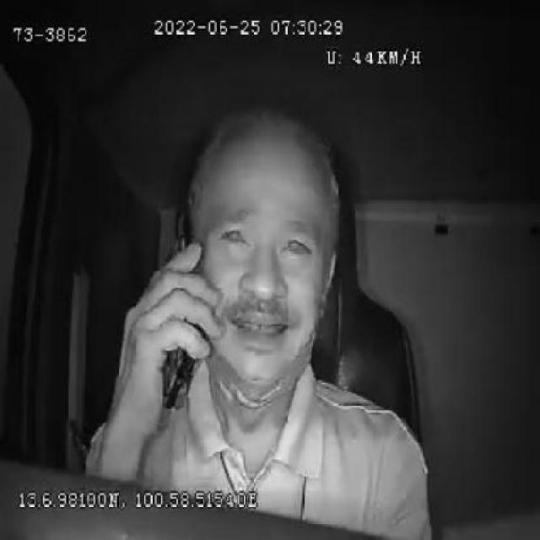phone: (160, 208, 202, 415)
